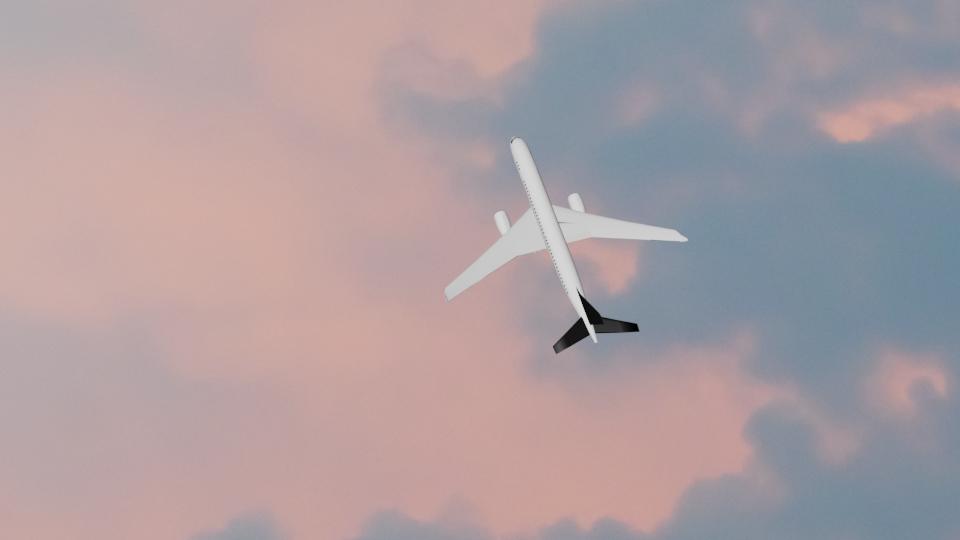plane: (440, 135, 690, 357)
